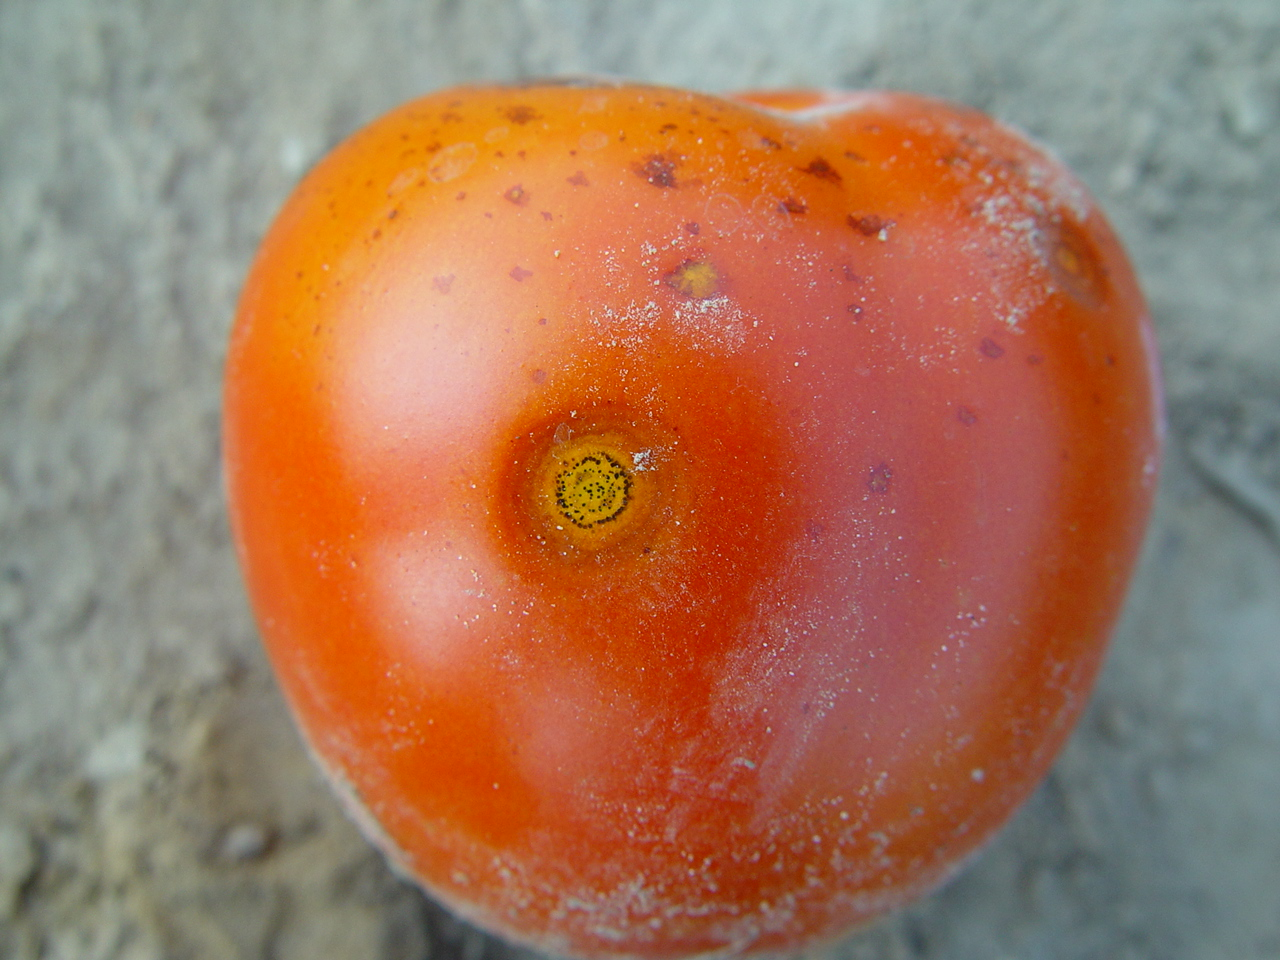anthracnose: (491, 368, 714, 606)
